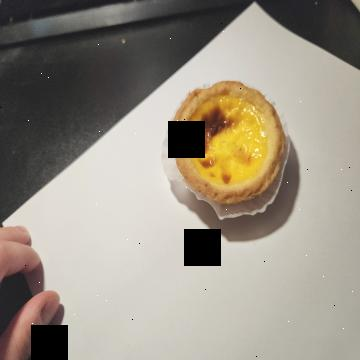EggTart: (172, 79, 284, 204)
